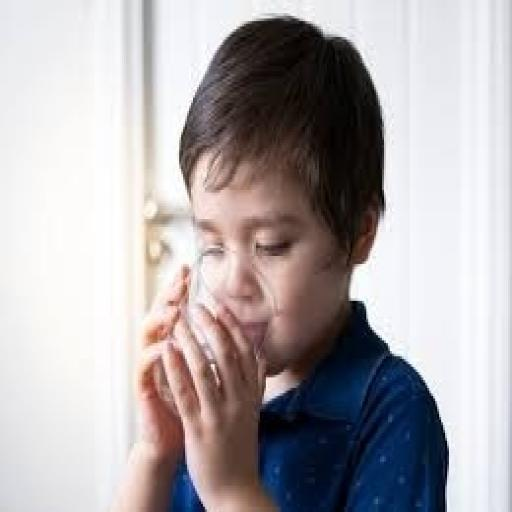drinking: (58, 140, 494, 470)
